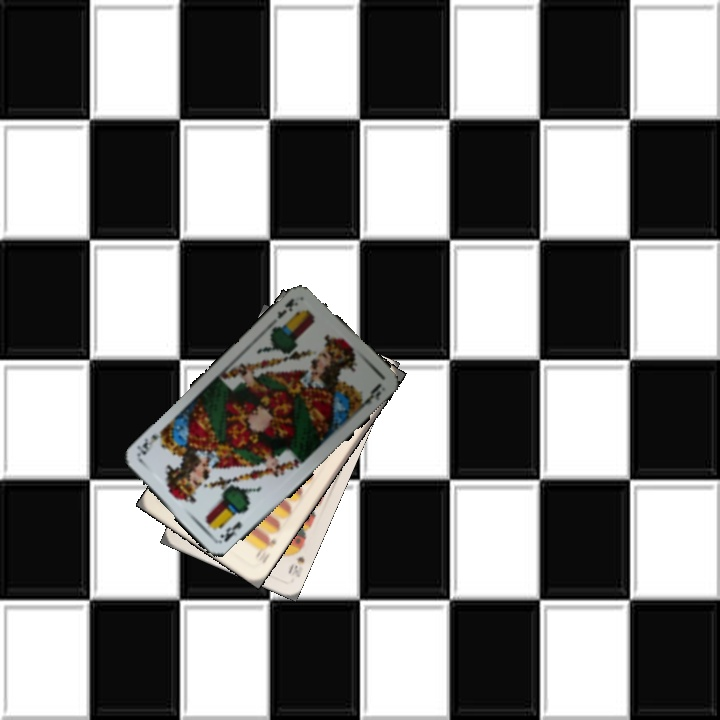E10: (254, 533, 280, 564)
EK: (216, 517, 244, 545), (273, 294, 301, 321)
S10: (284, 542, 307, 580)
